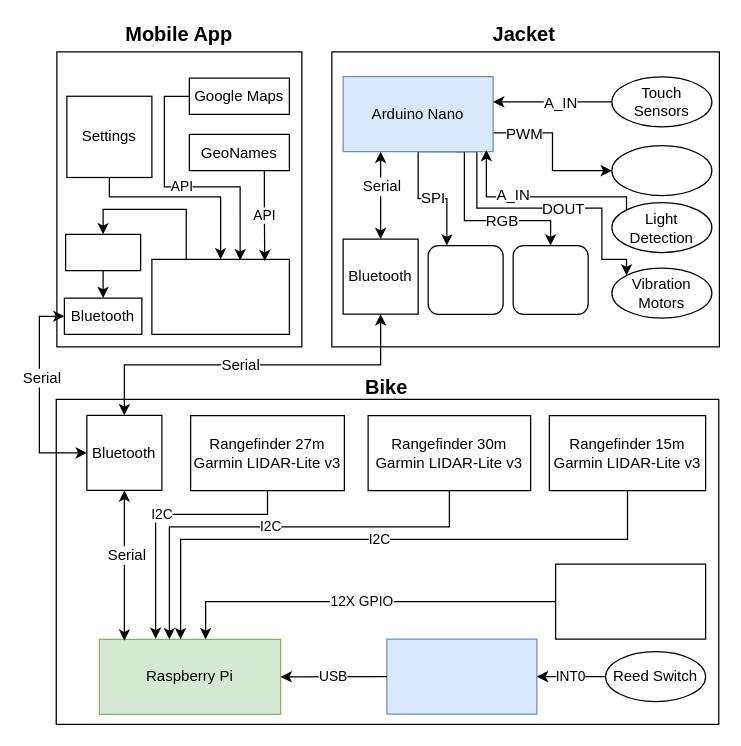
This 741x746 diagram has some shape labels left out. The box of each missing label's shape, as (x1, y1, x2, y2) in pixels:
App Core: (151, 258, 289, 334)
Arduino Uno: (386, 638, 537, 714)
Arm Lights: (512, 244, 588, 314)
Inter. Detect: (64, 233, 141, 271)
LED Matrix: (427, 244, 503, 314)
Piezo Buzzers: (611, 144, 712, 196)
Rangefinder 3m 6x HC-SR04: (554, 563, 706, 639)
